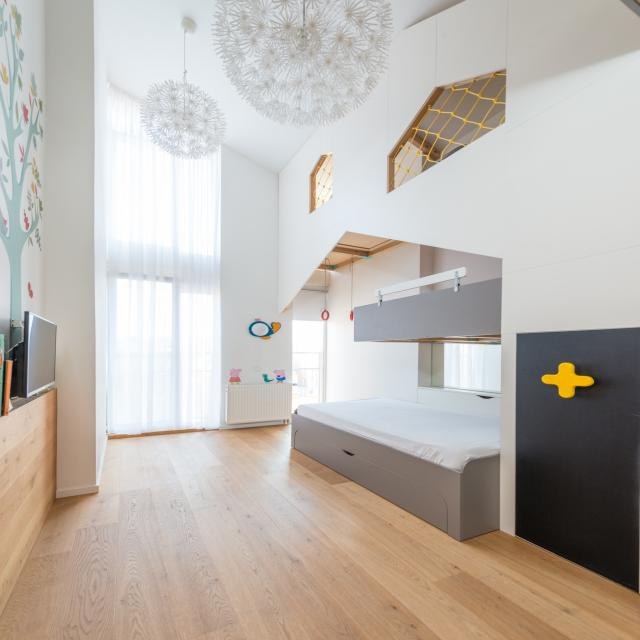floor: (0, 423, 640, 640)
wall: (277, 0, 640, 534), (45, 0, 96, 491), (220, 145, 292, 384), (4, 350, 13, 360)
